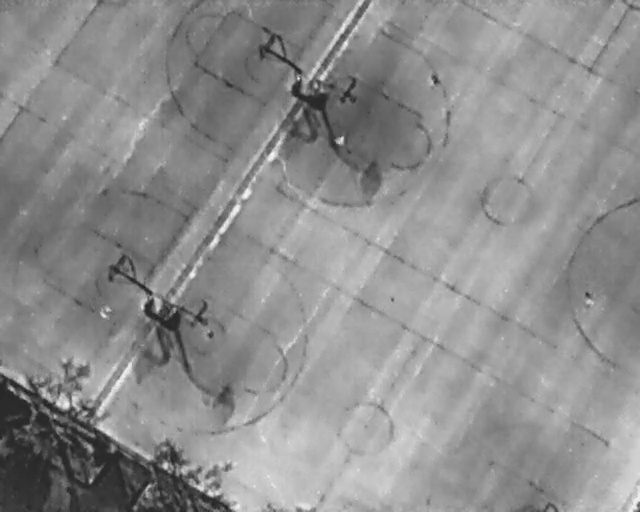Person: (332, 131, 346, 148), (99, 304, 112, 320), (582, 290, 592, 307), (430, 72, 439, 88)
